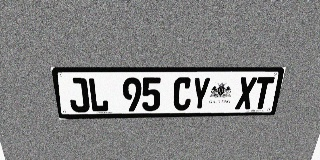5: (142, 77, 161, 111)
9: (122, 77, 142, 111)
C: (173, 77, 192, 111)
J: (67, 78, 90, 112)
L: (87, 78, 109, 112)
T: (252, 77, 275, 109)
X: (235, 77, 257, 109)
Y: (190, 77, 211, 110)
